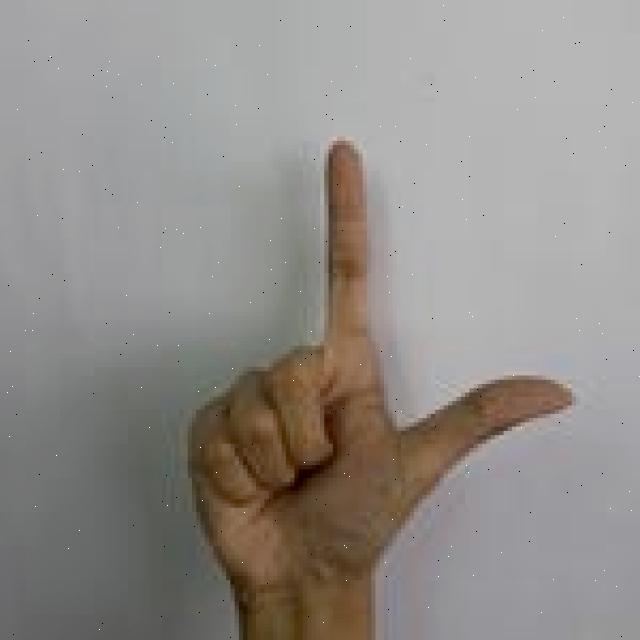L: (182, 136, 577, 640)
